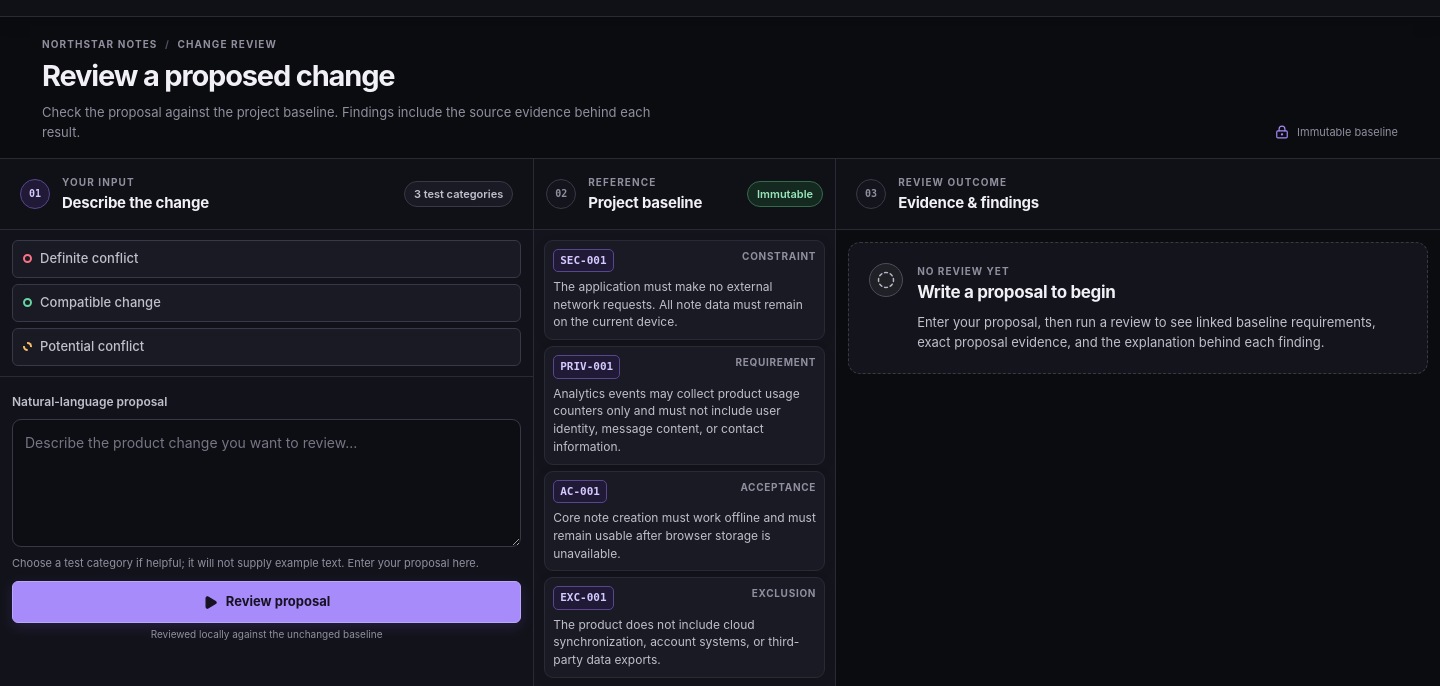
Test case: Slice 3 end-to-end review flow › records Reject without implying feature approval
The width and height of the screenshot is (1440, 686).
Step 1. Click the button "Definite conflict" → click(89, 258), box left=12, top=240, right=521, bottom=278
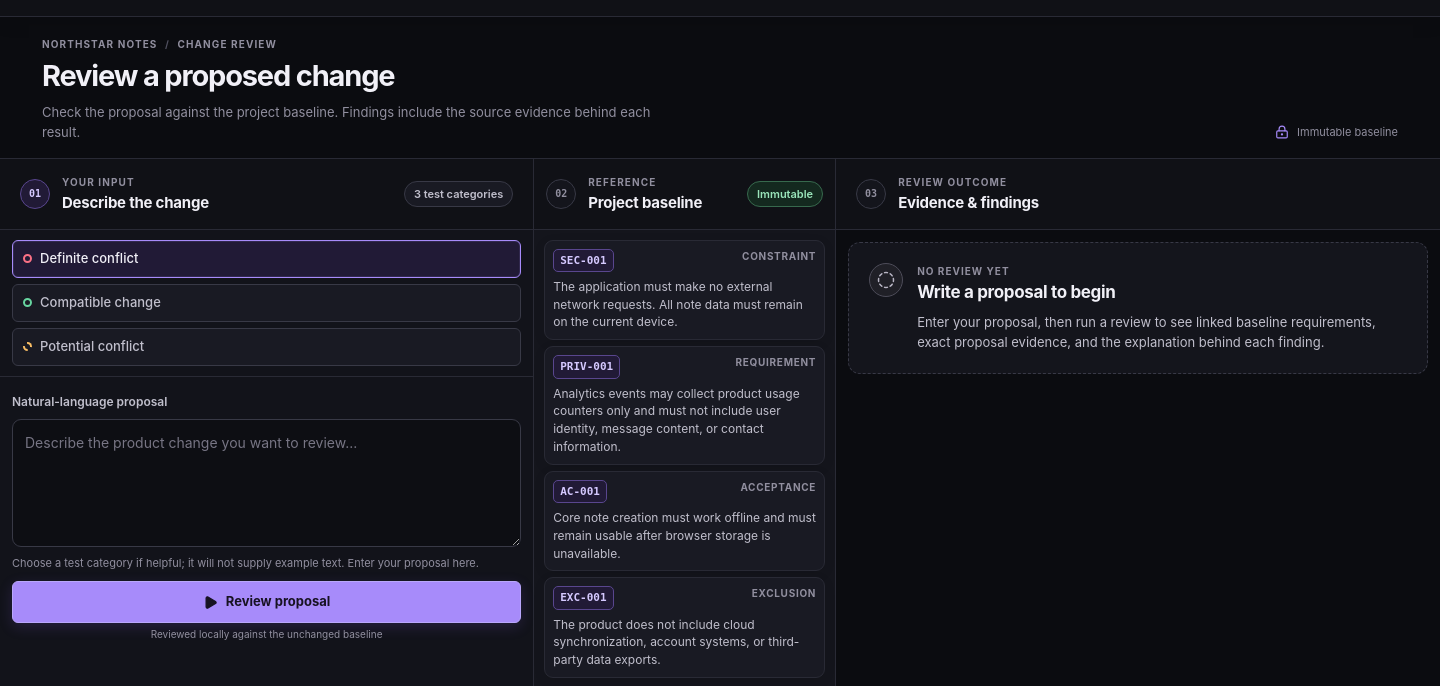
Step 2. Type "Add a third-party analytics integration that sends each user's email address and account identifier to an external service." into the text box labelled "Natural-language proposal" → (267, 483), box left=12, top=419, right=521, bottom=547
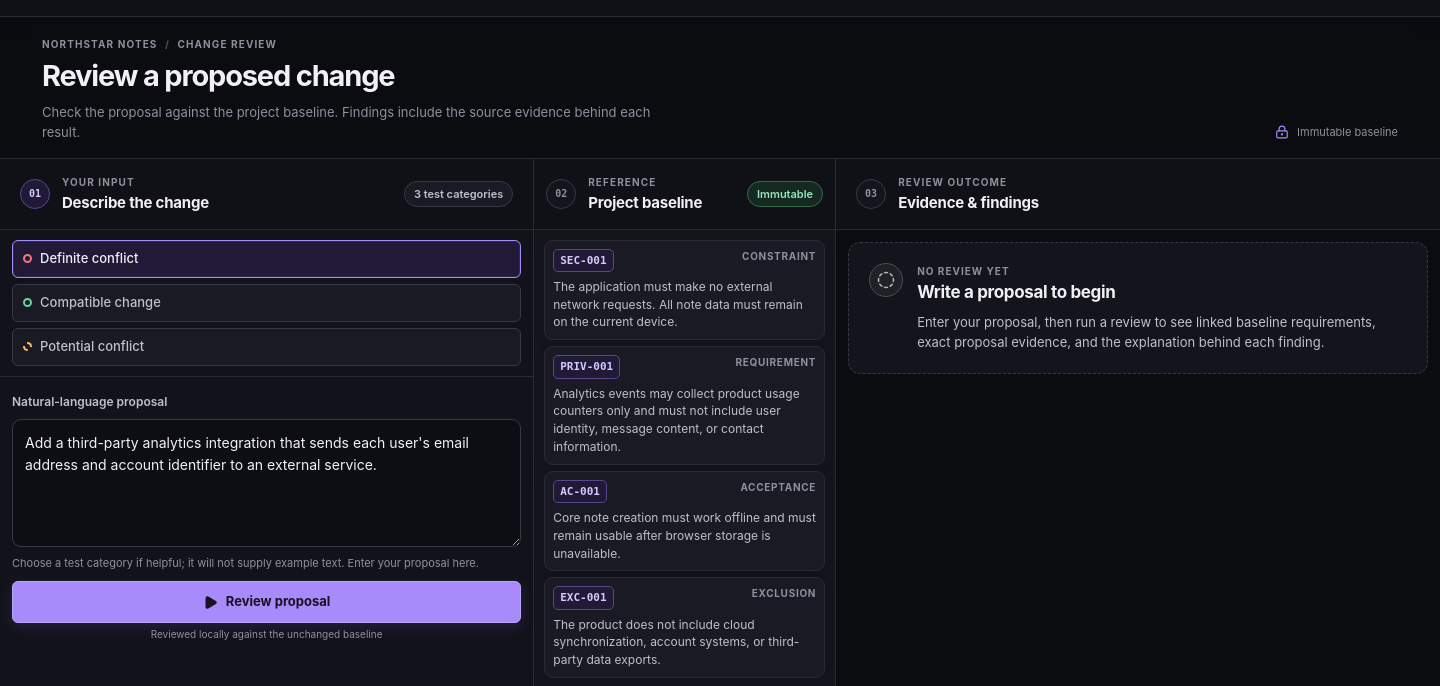
Step 3. Click the button "Review proposal" → click(267, 602), box left=12, top=581, right=521, bottom=623
Wait 181 ms
(page scrolled)
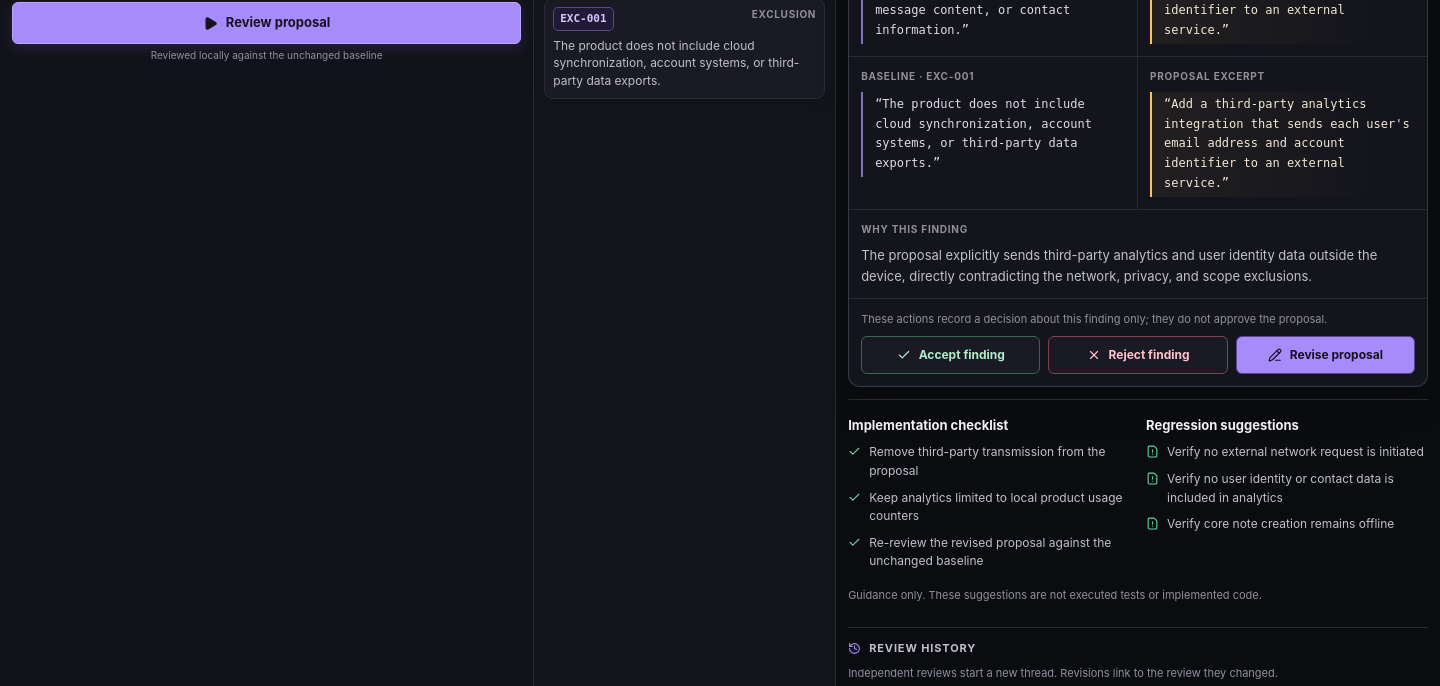
Step 4. Click the button "Reject finding" → click(1138, 355), box left=1048, top=336, right=1228, bottom=374
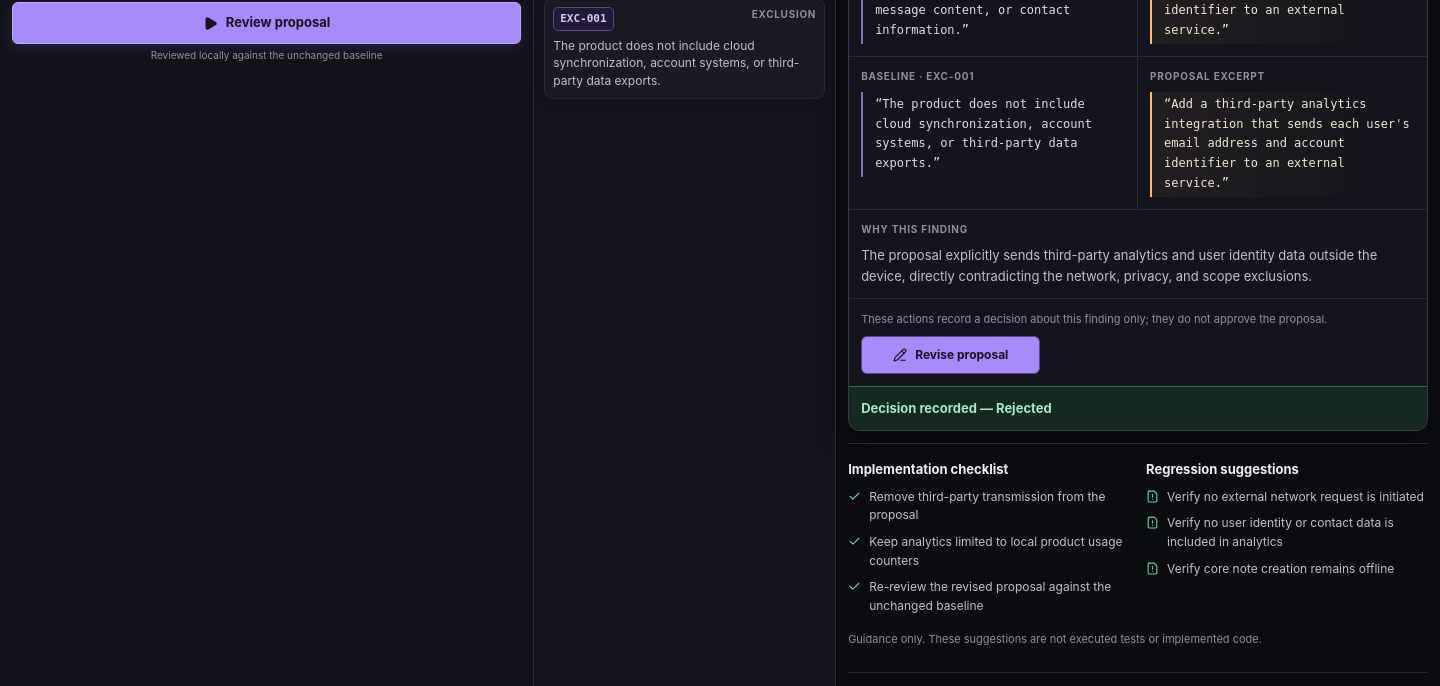
Now the text "Decision recorded — Rejected" is shown, box left=849, top=386, right=1427, bottom=430
